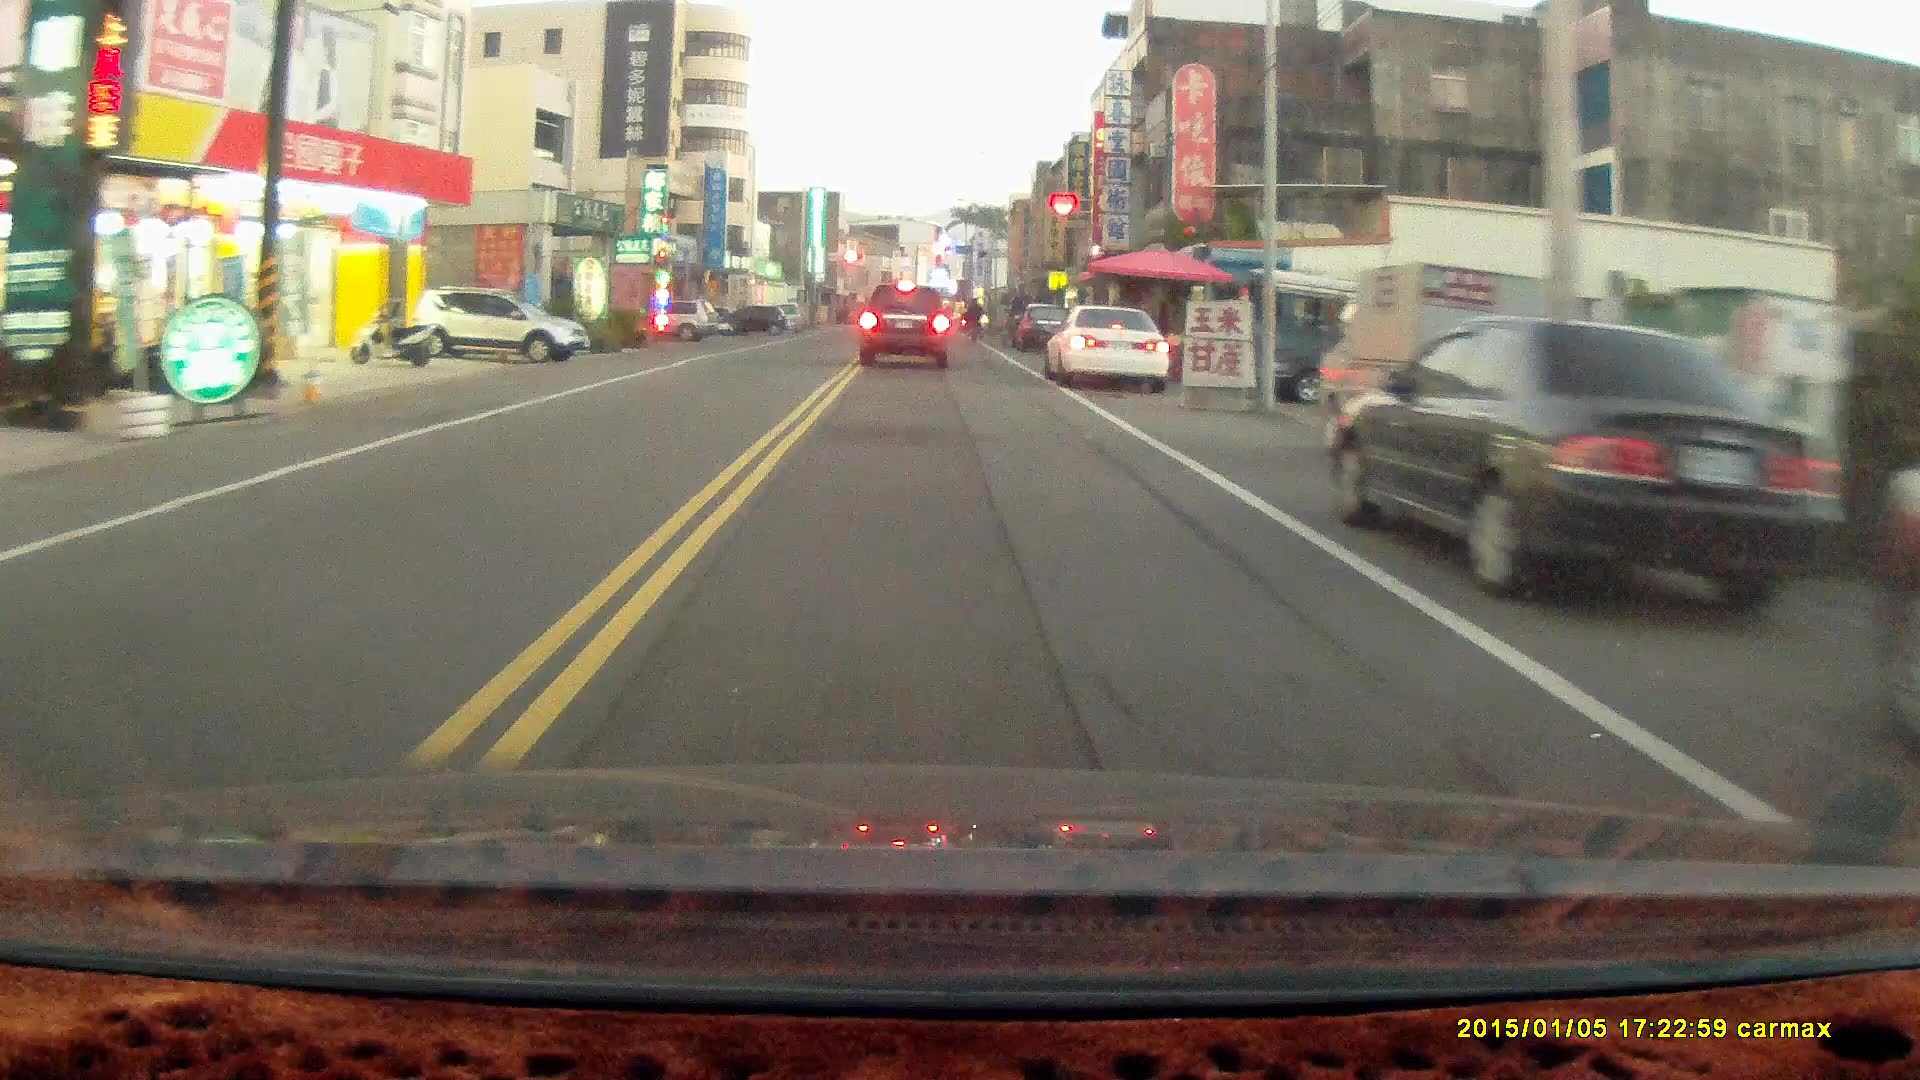vehicle: (1324, 313, 1854, 615), (1320, 253, 1556, 431), (407, 284, 587, 363), (1043, 303, 1174, 396), (858, 277, 951, 368)
